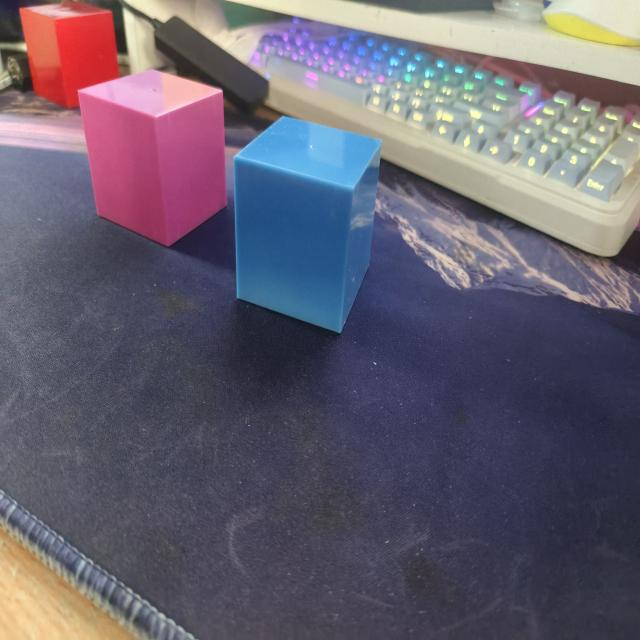blue: (232, 98, 382, 338)
pink: (76, 65, 229, 246)
